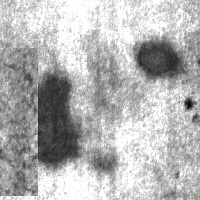crazing: (0, 48, 38, 196)
patches: (4, 71, 78, 167), (135, 39, 181, 76)
